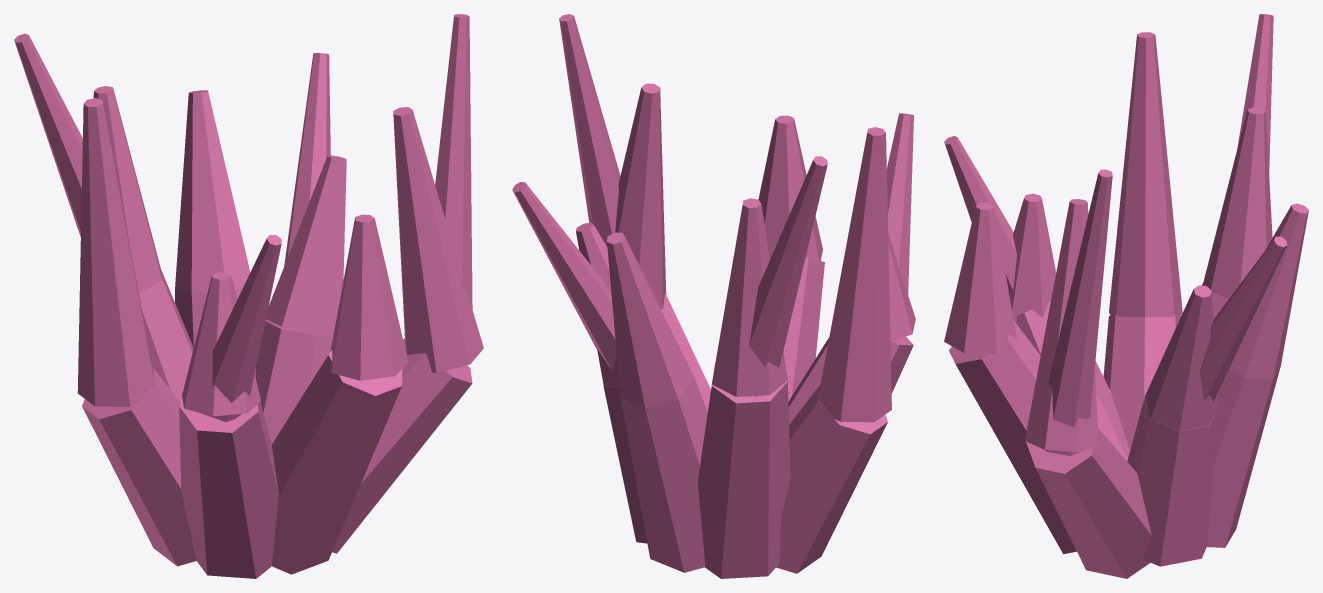
The model's file is coral_fan.glb.
The picture shows the model from 3 angles, left to right: view 1: azimuth 30°, elevation 25°; view 2: azimuth 150°, elevation 25°; view 3: azimuth 270°, elevation 25°; orthographic projection. The views are drawn at different scales.
Parts seen in each view (by area): view 1: CORAL_FAN; view 2: CORAL_FAN; view 3: CORAL_FAN.
Part boxes in pixels (box(x1,y1,x2,y2)): CORAL_FAN: box(14, 14, 483, 578); CORAL_FAN: box(512, 14, 915, 578); CORAL_FAN: box(944, 14, 1308, 578).
Bounding box in the file's own units: 1.03 × 1.35 × 0.9701.
